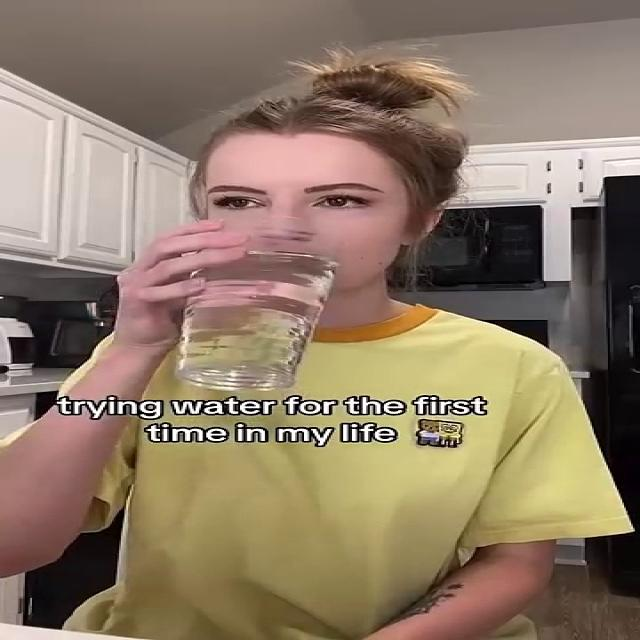Cup: (177, 249, 338, 390)
Hand: (90, 220, 264, 352)
Mouth: (238, 237, 336, 266)
